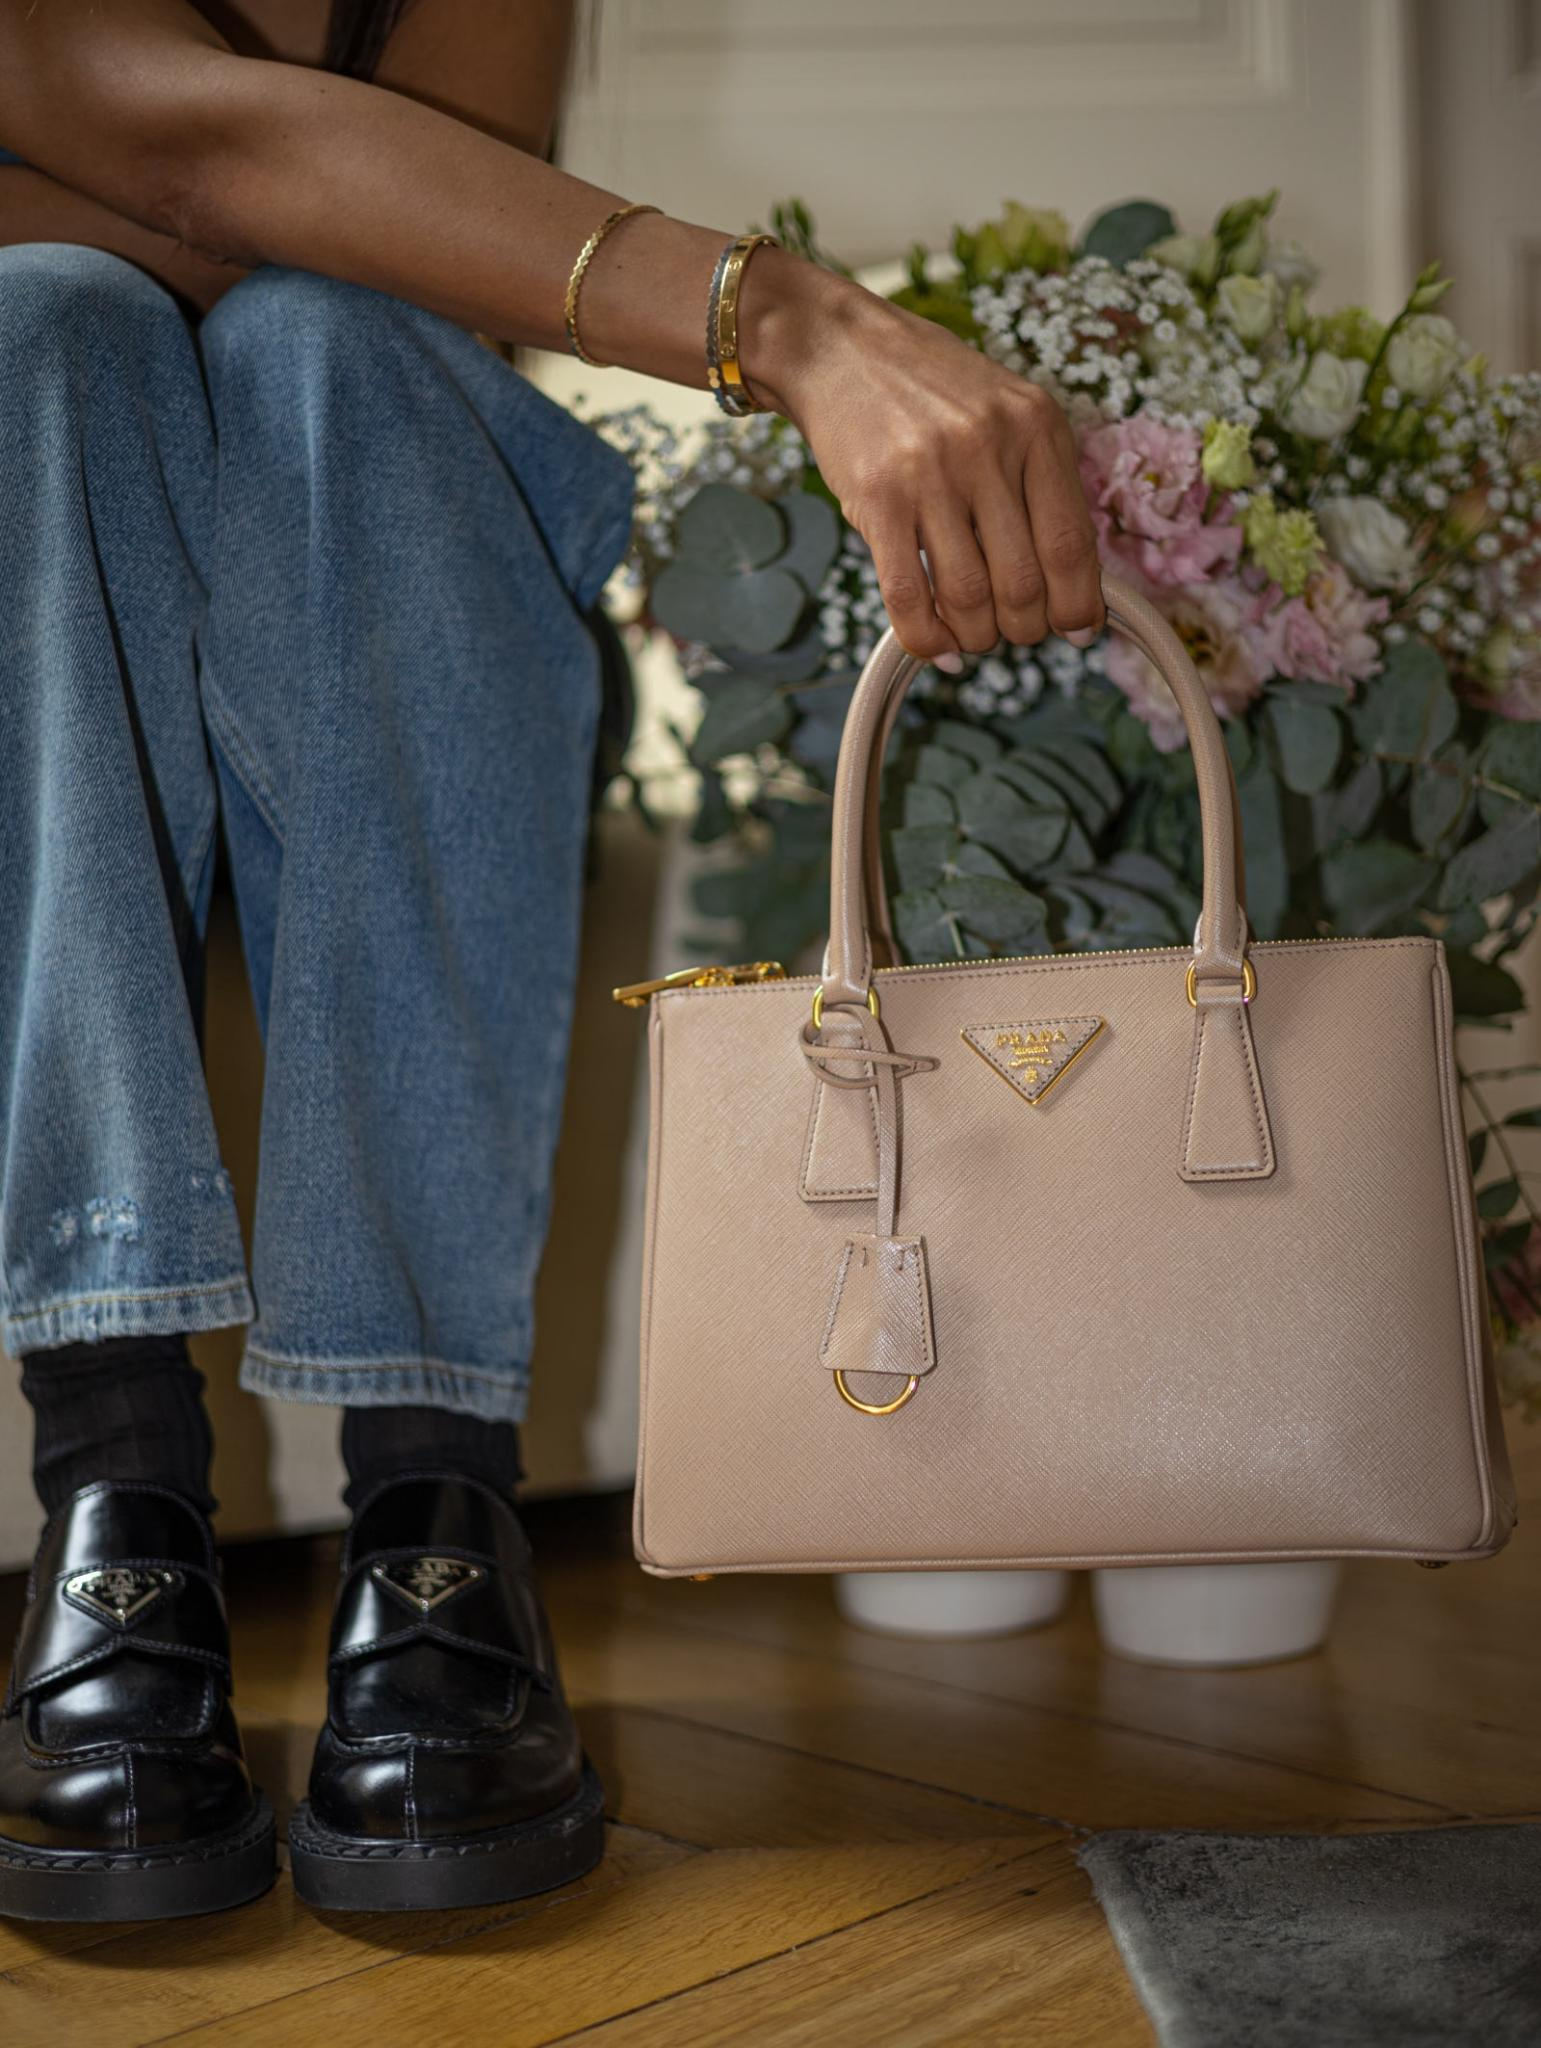PRADA: (963, 1017, 1104, 1101)
